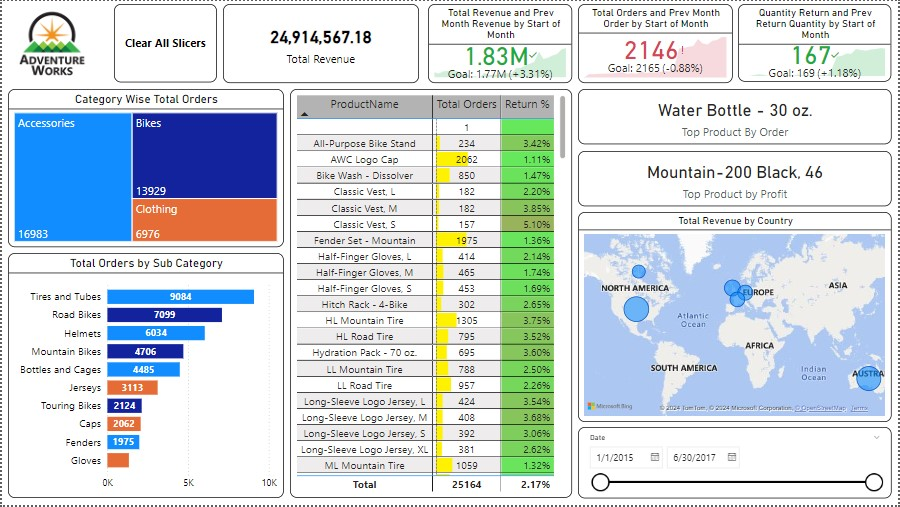

This screenshot's page, from the dashboard's own definition file:
{"tool":"powerbi","page":{"name":"Executive Summary","canvas":[1280,720],"ordinal":1},"visuals":[{"type":"image","box":[0,4.2,142.6,112.9],"z":0},{"type":"treemap","title":"Category Wise Total Orders","fields":{"Group":["AW_Product_Categories_Dim.CategoryName"],"Values":["AW_Sales_fact.Total Orders"]},"box":[8.1,125.8,393.5,225.8],"z":1000},{"type":"barChart","title":"Total Orders by Sub Category","fields":{"Category":["AW_Product_Subcategories_Dim.SubcategoryName"],"Y":["AW_Sales_fact.Total Orders"],"Series":["AW_Product_Categories_Dim.CategoryName"]},"box":[8.1,359.7,393.5,350],"z":2000},{"type":"tableEx","fields":{"Values":["AW_Products_Dim.ProductName","AW_Sales_fact.Total Orders","Calculated Measures.Return %"]},"box":[411.3,125.8,403.2,583.9],"z":3000},{"type":"card","fields":{"Values":["Calculated Measures.Total Revenue"]},"box":[316.2,4.2,279.5,112.9],"z":4000},{"type":"kpi","fields":{"Indicator":["Calculated Measures.Total Revenue"],"TrendLine":["AW_Calendar_Dim.Start of Month"],"Goal":["Calculated Measures.Prev Month Revenue"]},"box":[608.1,4.8,206.5,112.9],"z":5000},{"type":"kpi","fields":{"TrendLine":["AW_Calendar_Dim.Start of Month"],"Indicator":["Calculated Measures.Total Orders"],"Goal":["Calculated Measures.Prev Month Order"]},"box":[822.6,4.8,221,112.9],"z":6000},{"type":"kpi","fields":{"TrendLine":["AW_Calendar_Dim.Start of Month"],"Indicator":["Calculated Measures.Quantity Return"],"Goal":["Calculated Measures.Prev Return Quantity"]},"box":[1051.6,4.8,219.4,111.3],"z":7000},{"type":"card","fields":{"Values":["Min(AW_Products_Dim.ProductName)"]},"box":[822.6,125.8,448.4,79],"z":8000},{"type":"card","fields":{"Values":["Min(AW_Products_Dim.ProductName)"]},"box":[822.6,214.5,448.4,79],"z":9000},{"type":"map","fields":{"Category":["AW_Territories_Dim.Country"],"Size":["Calculated Measures.Total Revenue"]},"box":[822.6,301.6,448.4,300],"z":10000},{"type":"slicer","fields":{"Values":["AW_Calendar_Dim.Date"]},"box":[822.6,608.1,448.4,101.6],"z":11000},{"type":"actionButton","box":[159.5,4.2,146.8,111.5],"z":12000}]}

Visuals, with their boxes in screenshot pixels (x1, y1, x2, y2), scaled from the page's 1280x720 canvas onto the 900x507 screenshot:
image: select_region(0, 3, 100, 82)
"Category Wise Total Orders" treemap: select_region(6, 89, 282, 248)
"Total Orders by Sub Category" barChart: select_region(6, 253, 282, 500)
tableEx - AW_Products_Dim.ProductName x AW_Sales_fact.Total Orders: select_region(289, 89, 573, 500)
card - Calculated Measures.Total Revenue: select_region(222, 3, 419, 82)
kpi - Calculated Measures.Total Revenue x AW_Calendar_Dim.Start of Month: select_region(428, 3, 573, 83)
kpi - AW_Calendar_Dim.Start of Month x Calculated Measures.Total Orders: select_region(578, 3, 734, 83)
kpi - AW_Calendar_Dim.Start of Month x Calculated Measures.Quantity Return: select_region(739, 3, 894, 82)
card - Min(AW_Products_Dim.ProductName): select_region(578, 89, 894, 144)
card - Min(AW_Products_Dim.ProductName): select_region(578, 151, 894, 207)
map - AW_Territories_Dim.Country x Calculated Measures.Total Revenue: select_region(578, 212, 894, 424)
slicer - AW_Calendar_Dim.Date: select_region(578, 428, 894, 500)
actionButton: select_region(112, 3, 215, 81)
